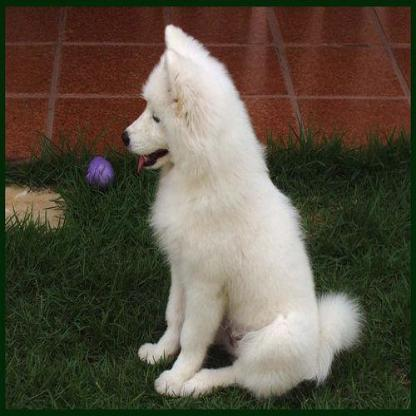Samoyed: (120, 22, 359, 396)
